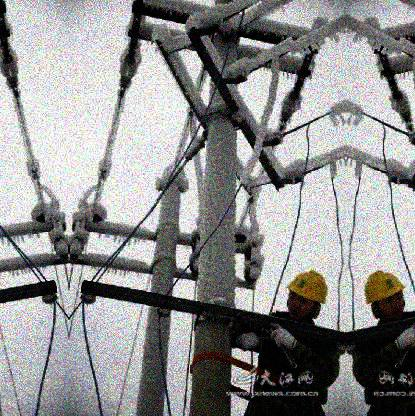helmet: (364, 268, 405, 320), (287, 268, 328, 320)
